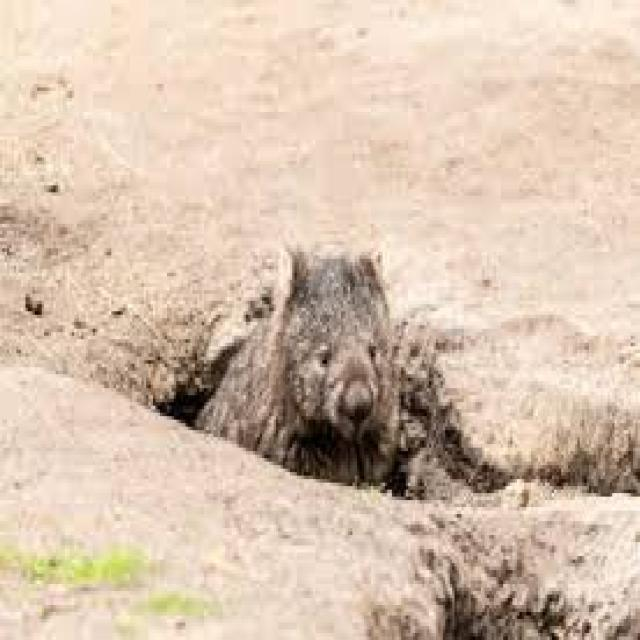Wombat: (195, 242, 415, 494)
